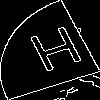H: (25, 25, 91, 82)
